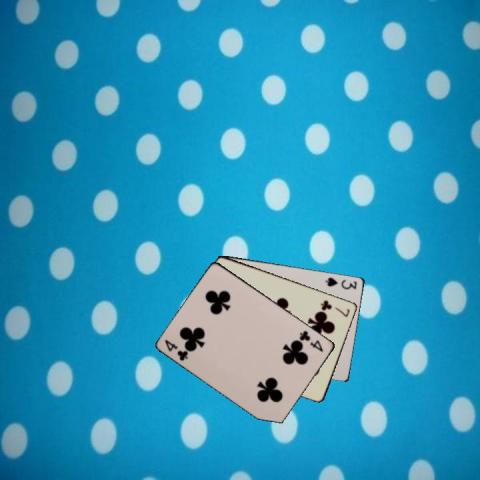3s: (322, 274, 358, 291)
4c: (297, 328, 325, 354), (162, 336, 190, 362)
7c: (318, 297, 351, 318)
